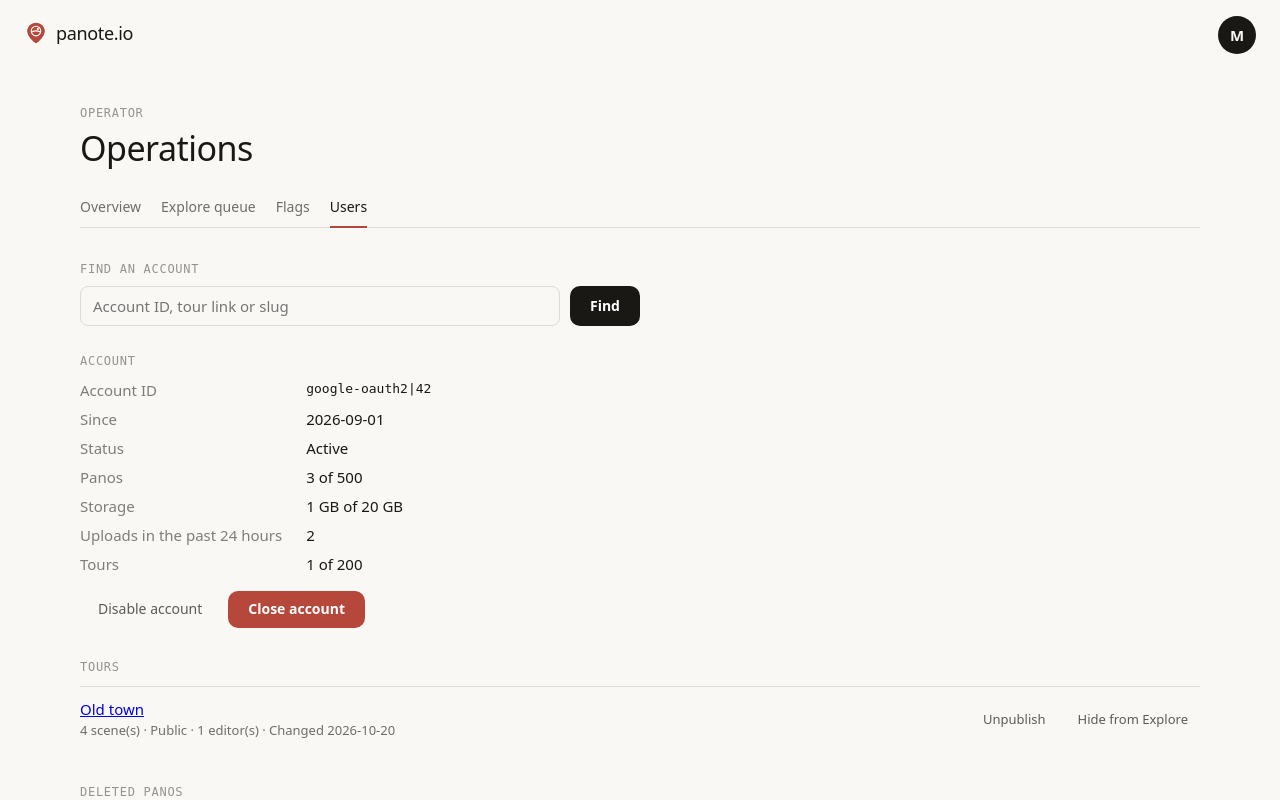
Test: /app/ops/users › disables with a reason, and shows the account as it is now
The width and height of the screenshot is (1280, 800).
Click the button "Disable account" at x=150, y=610, box [80,591,220,628]
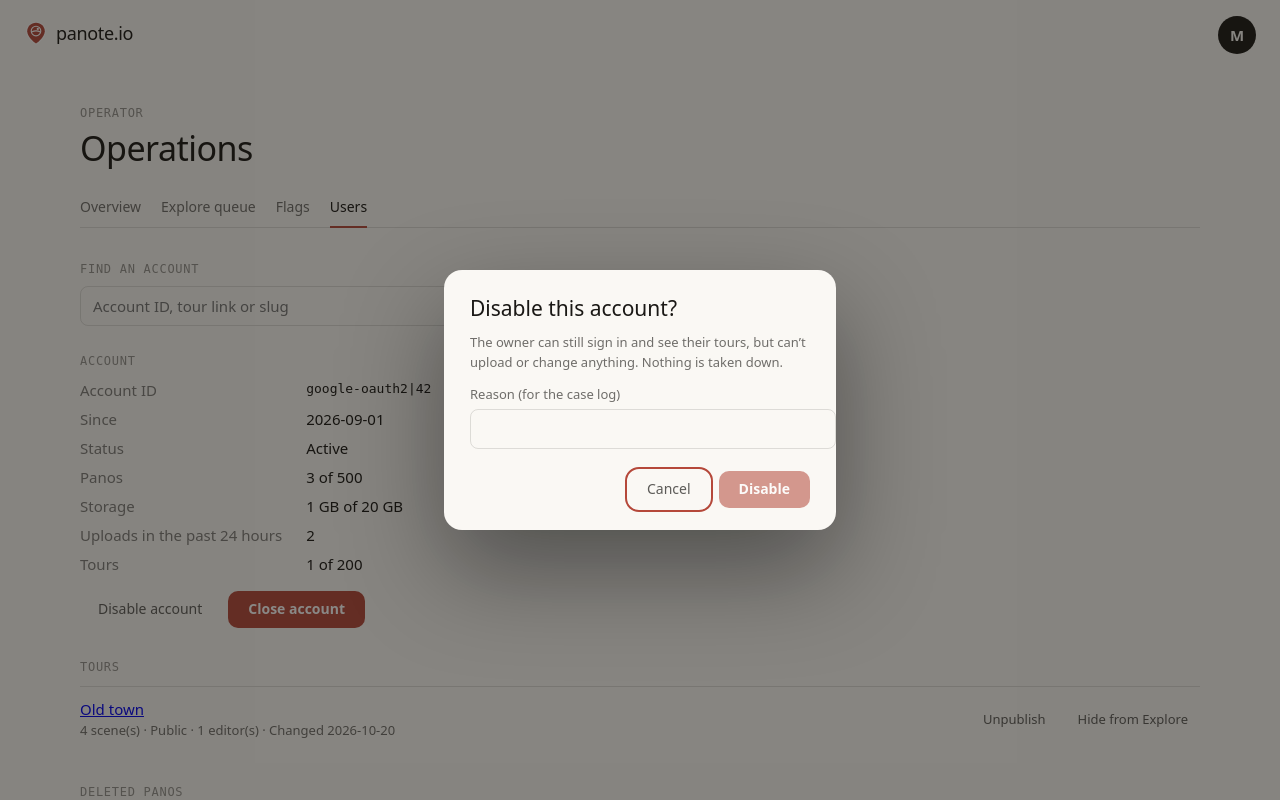
Check: the button "Disable" is disabled, box [718,471,810,508]
Type " case 3 " into the field labelled "Reason (for the case log)" at x=653, y=429, box [470,409,836,449]
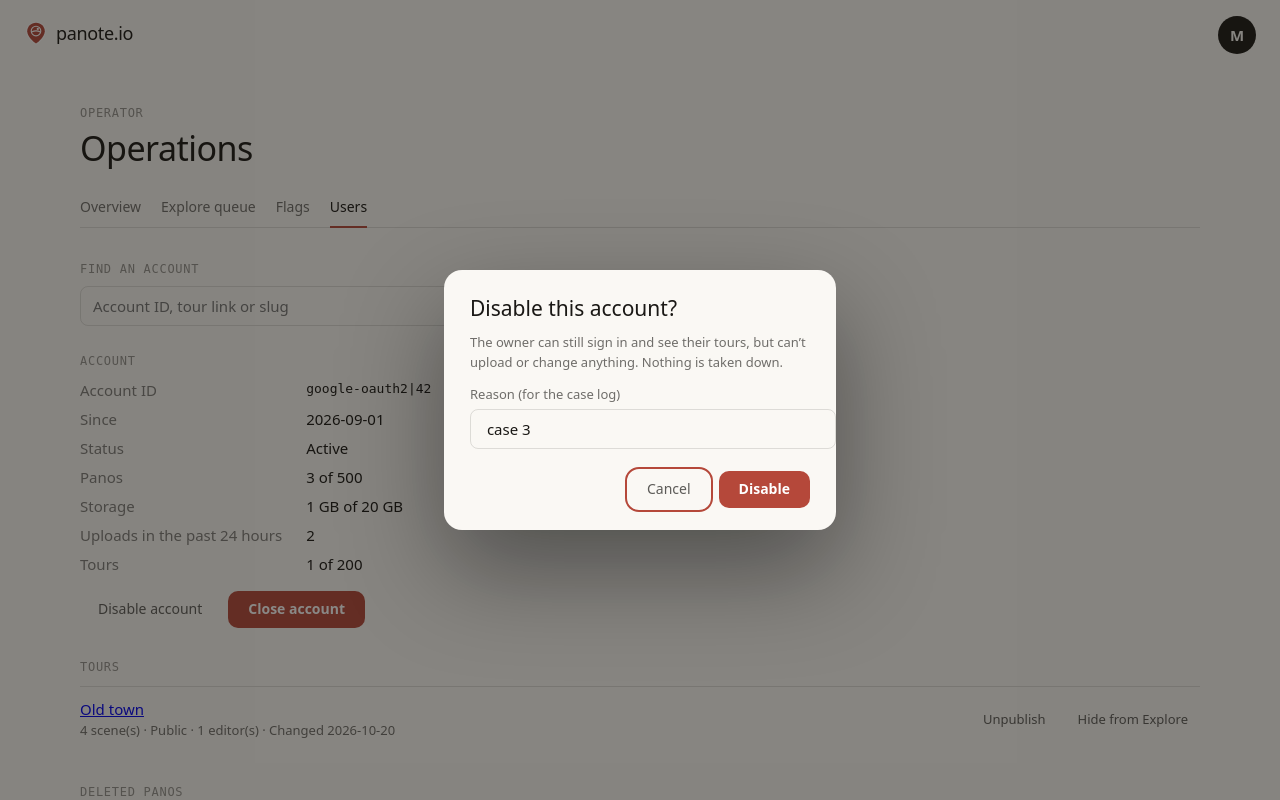
Click the button "Disable" at x=764, y=490, box [718,471,810,508]
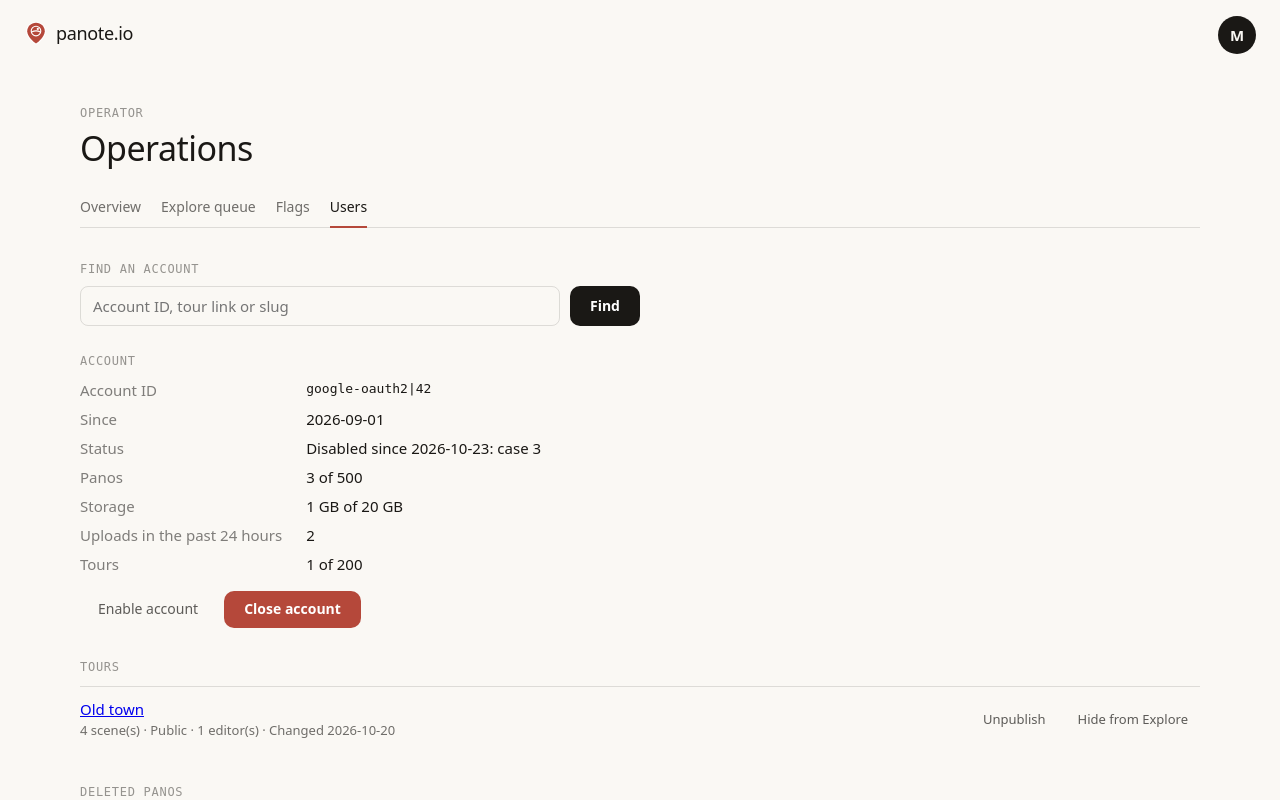
Check: the text "Disabled since 2026-10-23: case 3" is shown, box [306,438,541,458]
Check: the button "Enable account" is shown, box [80,591,216,628]
